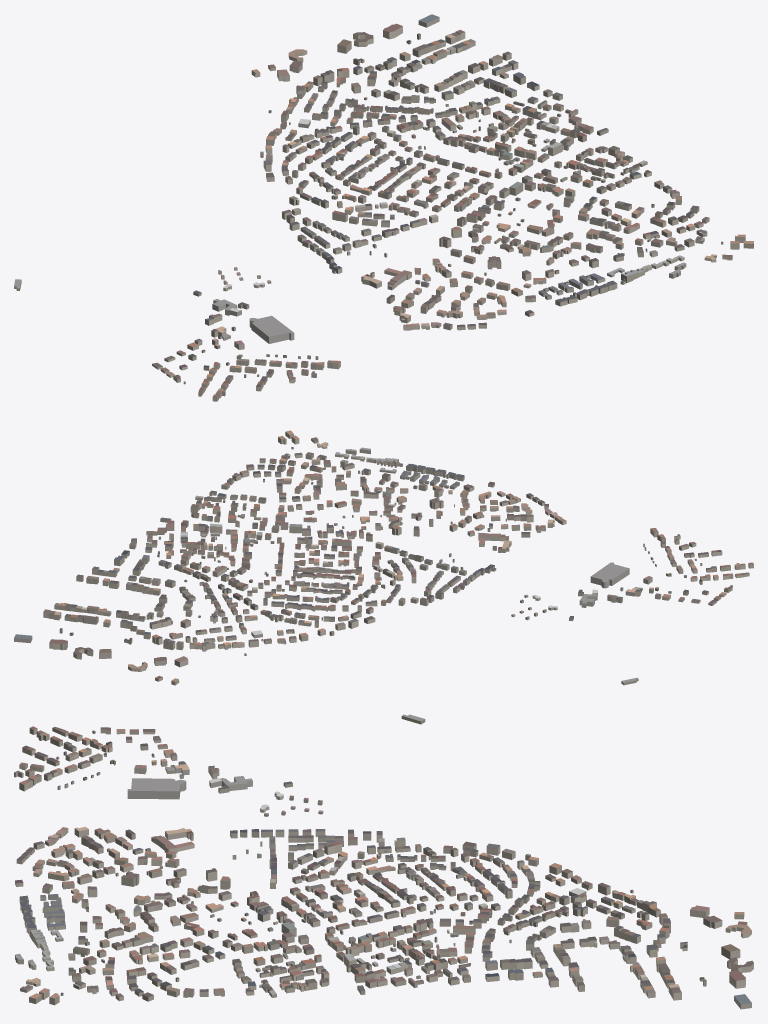
3 views of the same model, one above another, from view 1: azimuth 30°, elevation 25°; view 2: azimuth 150°, elevation 25°; view 3: azimuth 270°, elevation 25° (orthographic). The views are drawn at different scales.
Parts seen in each view (by area): view 1: tuile; view 2: tuile; view 3: tuile.
Boxes of the visible parts, left/top/right/bottom form: tuile: left=14, top=14, right=753, bottom=401; tuile: left=14, top=430, right=753, bottom=685; tuile: left=14, top=714, right=753, bottom=1009.
Size of the model in its own units: 1011 by 74.53 by 1004.
